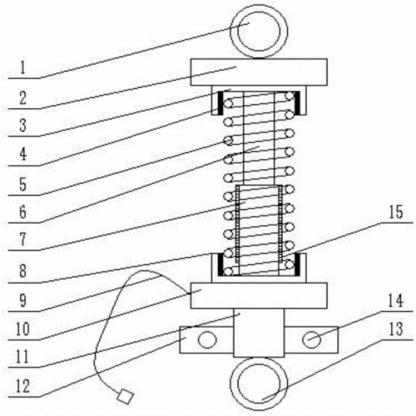FOD: (219, 90, 300, 276)
